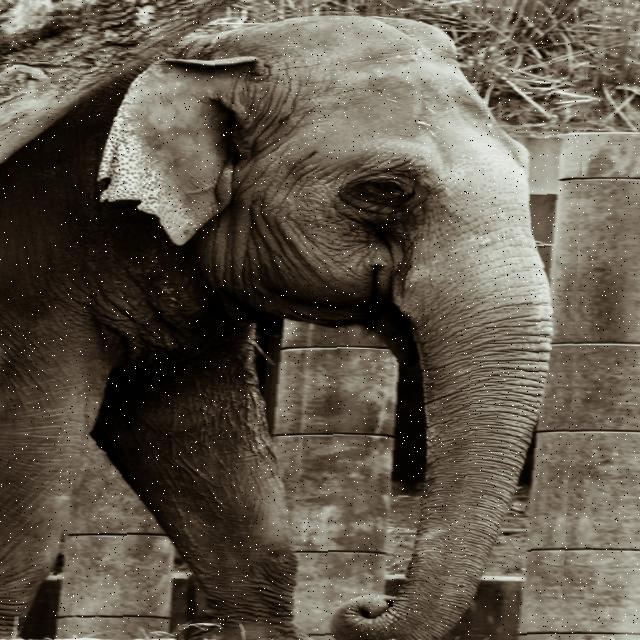elephant: (0, 8, 589, 640)
